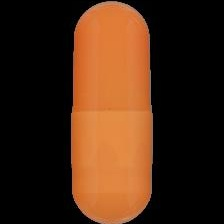54868-6308: (0, 0, 224, 224)
